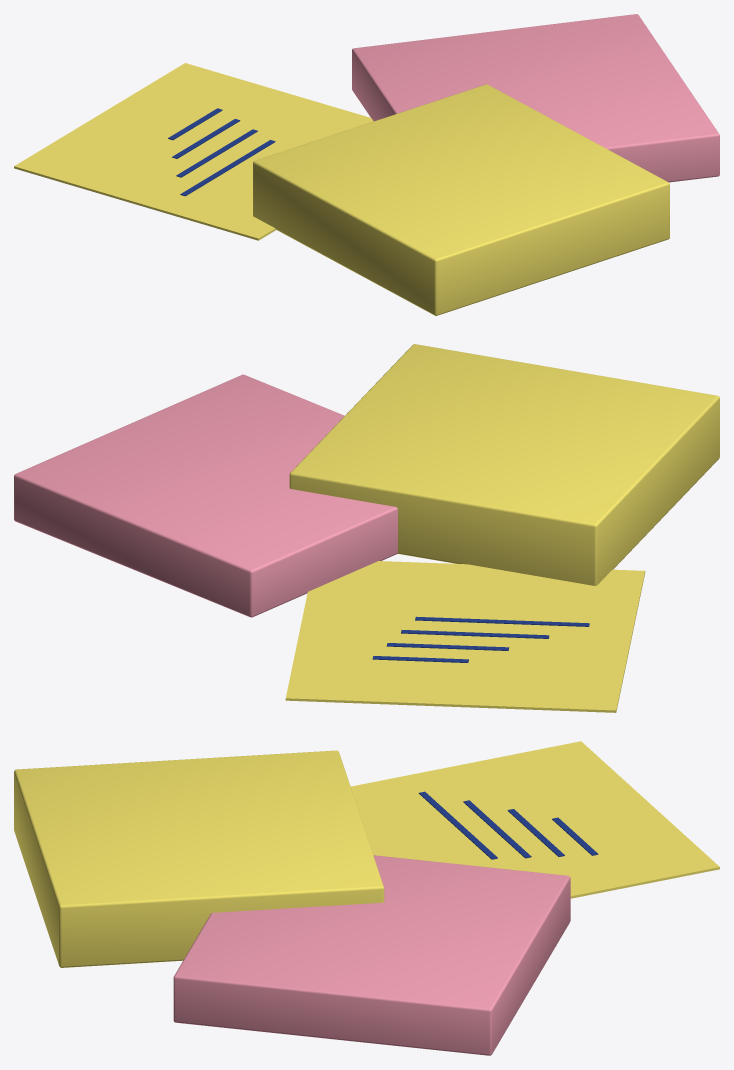
Rendered from herodesk-office-sticky-notes.glb.
The picture shows the model from 3 angles, top to bottom: view 1: azimuth 30°, elevation 25°; view 2: azimuth 150°, elevation 25°; view 3: azimuth 270°, elevation 25°; orthographic projection. The views are drawn at different scales.
Visible parts, largest first — view 1: herodesk-office-sticky-notes · mesh; view 2: herodesk-office-sticky-notes · mesh; view 3: herodesk-office-sticky-notes · mesh.
Boxes of the visible parts, box(x1,y1,x2,y2) form: herodesk-office-sticky-notes · mesh: box(14, 14, 719, 315); herodesk-office-sticky-notes · mesh: box(14, 344, 719, 712); herodesk-office-sticky-notes · mesh: box(14, 741, 719, 1055).
Bounding box in the file's own units: 0.1714 × 0.016 × 0.1633.
